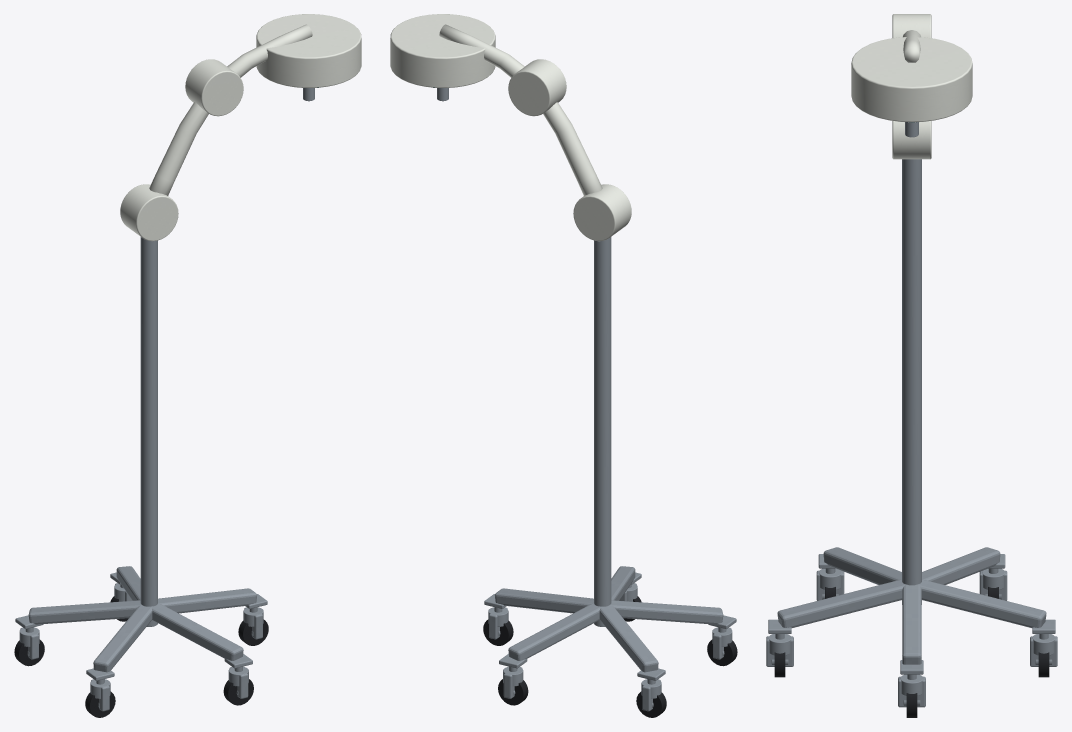
The model's file is exam-light.glb.
3 views of the same model, side by side, from view 1: azimuth 30°, elevation 25°; view 2: azimuth 150°, elevation 25°; view 3: azimuth 270°, elevation 25° (orthographic). The views are drawn at different scales.
Parts seen in each view (by area): view 1: Exam light stand, Exam lamp head, Articulated exam light arm, Lamp articulation.001, Lamp articulation, Radial base spoke.002, Radial base spoke.004, Radial base spoke, Radial base spoke.003, Radial base spoke.001; view 2: Exam light stand, Exam lamp head, Articulated exam light arm, Lamp articulation.001, Lamp articulation, Radial base spoke.003, Radial base spoke.001, Radial base spoke, Radial base spoke.002, Radial base spoke.004; view 3: Exam lamp head, Exam light stand, Radial base spoke.001, Radial base spoke.004, Radial base spoke, Radial base spoke.002, Radial base spoke.003, Lamp articulation, Lamp articulation.001, Articulated exam light arm.
Part boxes in pixels (box(x1,y1,x2,y2)): Exam light stand: box(140, 237, 157, 626); Exam lamp head: box(256, 14, 361, 87); Articulated exam light arm: box(149, 24, 312, 195); Lamp articulation.001: box(185, 59, 243, 116); Lamp articulation: box(120, 184, 178, 241); Radial base spoke.002: box(28, 600, 142, 624); Radial base spoke.004: box(149, 603, 243, 660); Radial base spoke: box(158, 588, 256, 613); Radial base spoke.003: box(93, 604, 152, 672); Radial base spoke.001: box(116, 566, 140, 600); Exam light stand: box(594, 237, 611, 626); Exam lamp head: box(390, 14, 495, 87); Articulated exam light arm: box(439, 24, 602, 195); Lamp articulation.001: box(508, 59, 566, 116); Lamp articulation: box(573, 184, 631, 241); Radial base spoke.003: box(609, 600, 723, 624); Radial base spoke.001: box(508, 603, 602, 660); Radial base spoke: box(495, 588, 593, 613); Radial base spoke.002: box(599, 604, 658, 672); Radial base spoke.004: box(611, 566, 635, 600); Exam lamp head: box(851, 37, 972, 122); Exam light stand: box(902, 159, 921, 604); Radial base spoke.001: box(915, 579, 1046, 627); Radial base spoke.004: box(777, 579, 908, 627); Radial base spoke: box(902, 584, 921, 664); Radial base spoke.002: box(922, 547, 1000, 584); Radial base spoke.003: box(823, 547, 901, 584); Lamp articulation: box(892, 121, 931, 159); Lamp articulation.001: box(892, 14, 931, 38); Articulated exam light arm: box(903, 30, 920, 62).
Size of the model in its own units: 0.9289 by 1.78 by 0.6727.
Materials: 5 (5 with a texture image).
